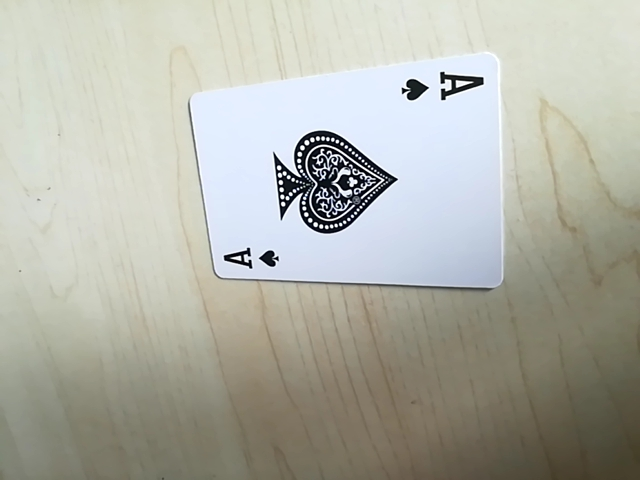ht a: (400, 63, 484, 111), (213, 244, 283, 279)
